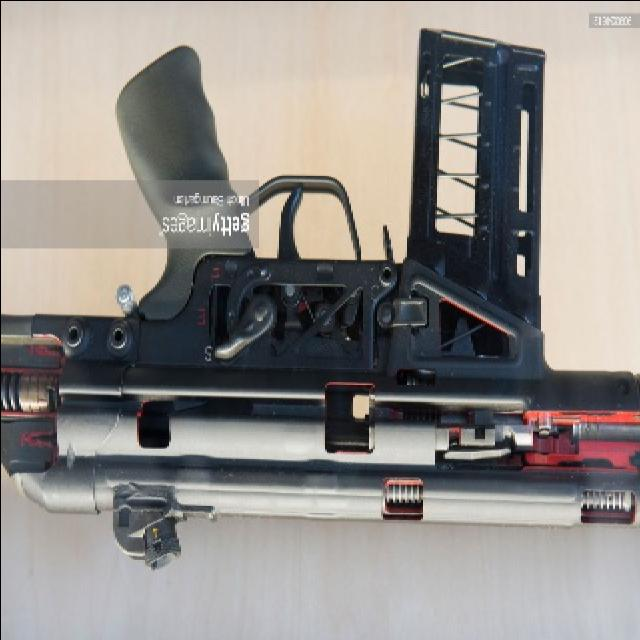rifle: (3, 63, 640, 543)
